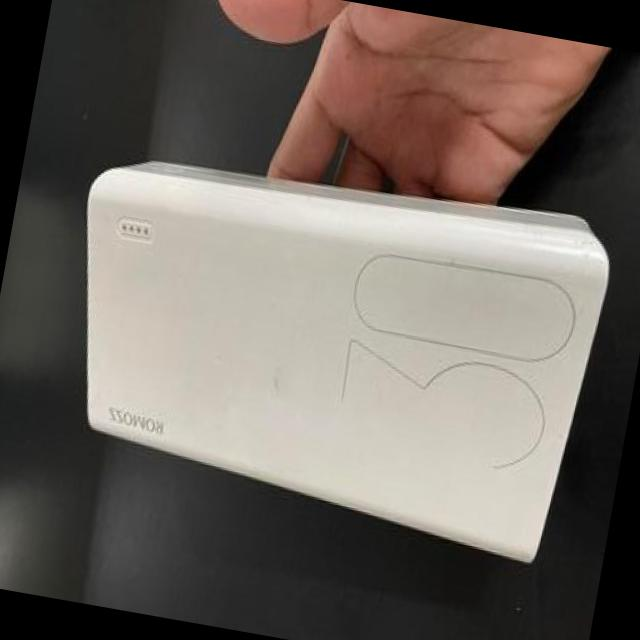power_bank: (21, 116, 624, 580)
